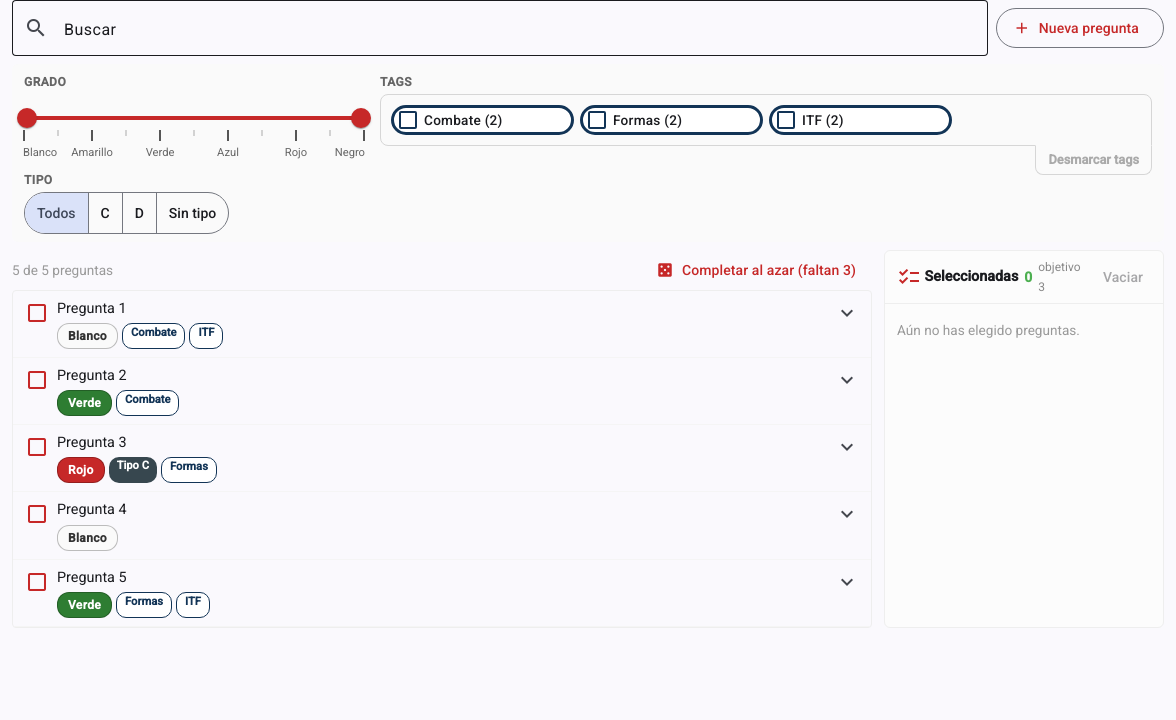
Test: ExamQuestionPickerComponent › filas › la vista previa muestra opciones, la correcta y la explicación sin cambiar la selección
The image size is (1176, 720).
Click the button named "Ver la pregunta completa". click: {"x": 847, "y": 380}
box: [827,360,867,400]
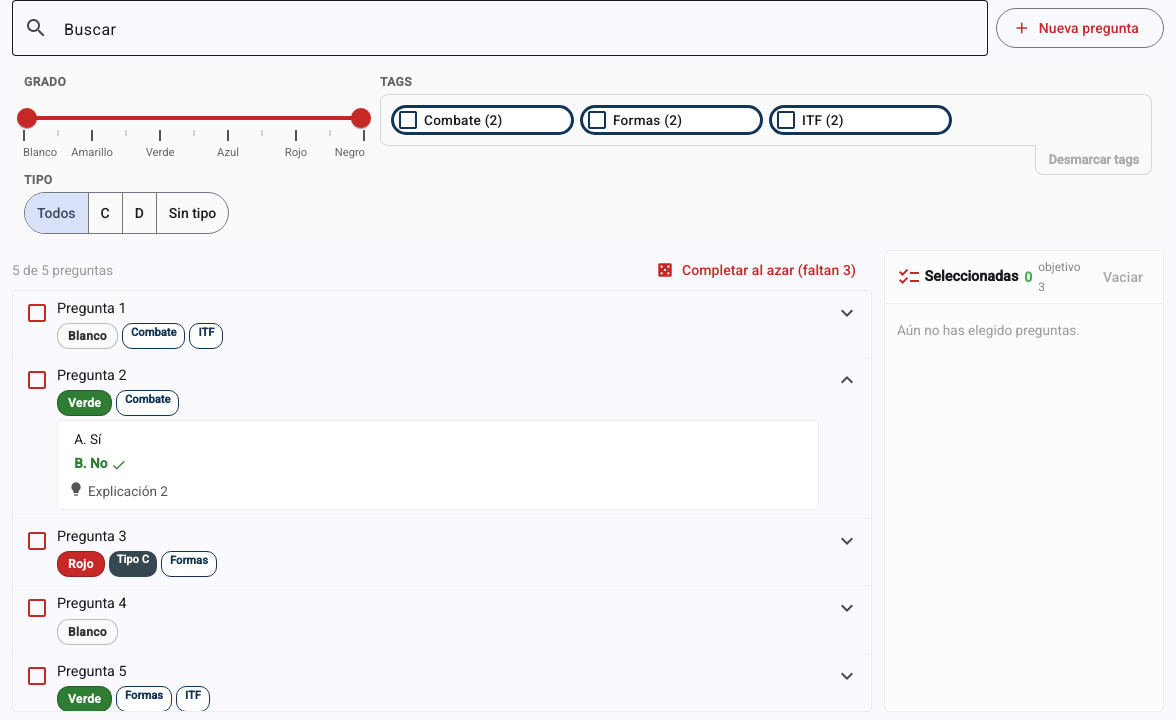
Expected: the element showing "Sí No Explicación 2" is shown, [57,420,819,510]
Expected: the list item with class "correct" reads "No", [90,455,111,471]
